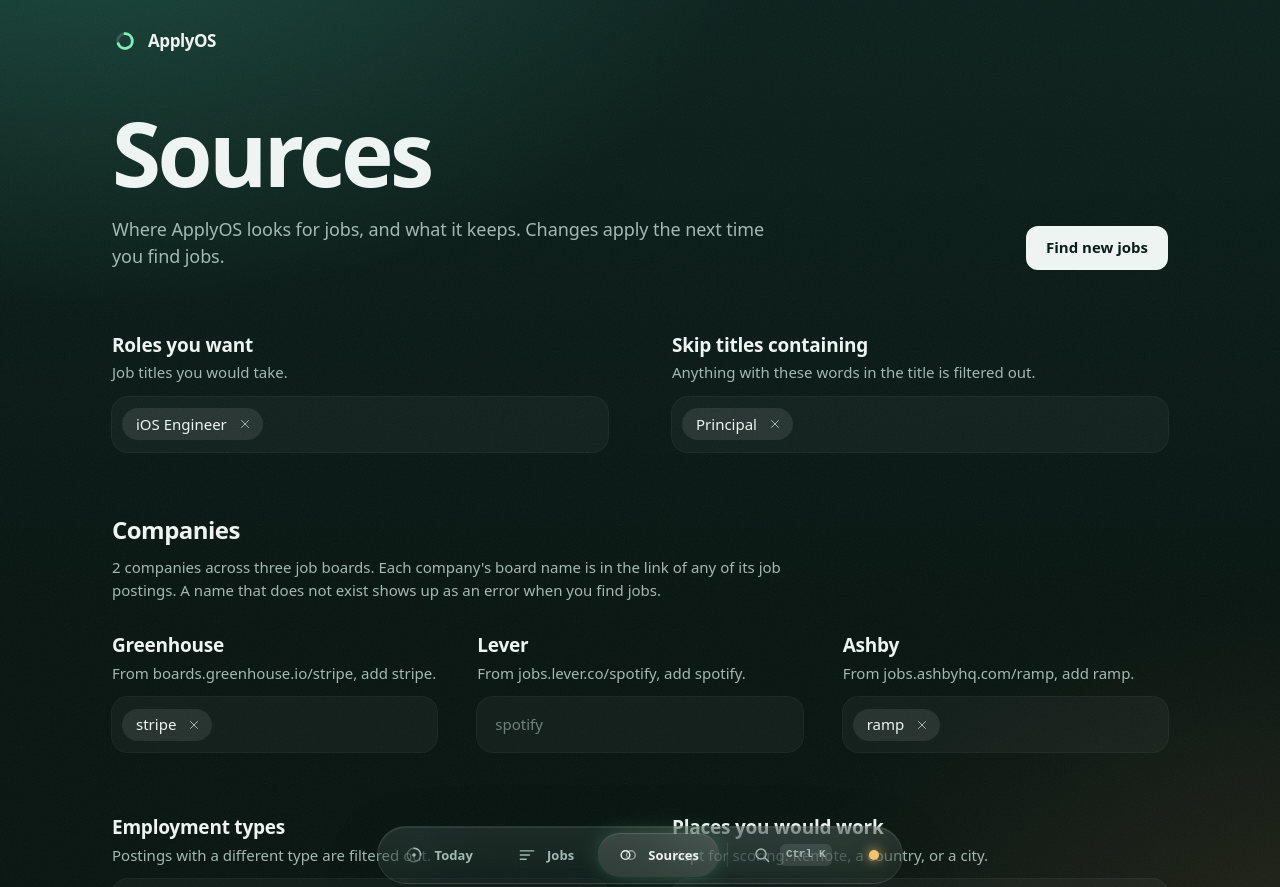
Sources page › rejects a company name that cannot be right, without marking the page changed
Expected: the text "stripe" is shown, [122,709,212,741]
Step 1. Type "not a slug" into the field labelled "Lever" → (640, 725), box [487,707,793,742]
Then press Enter
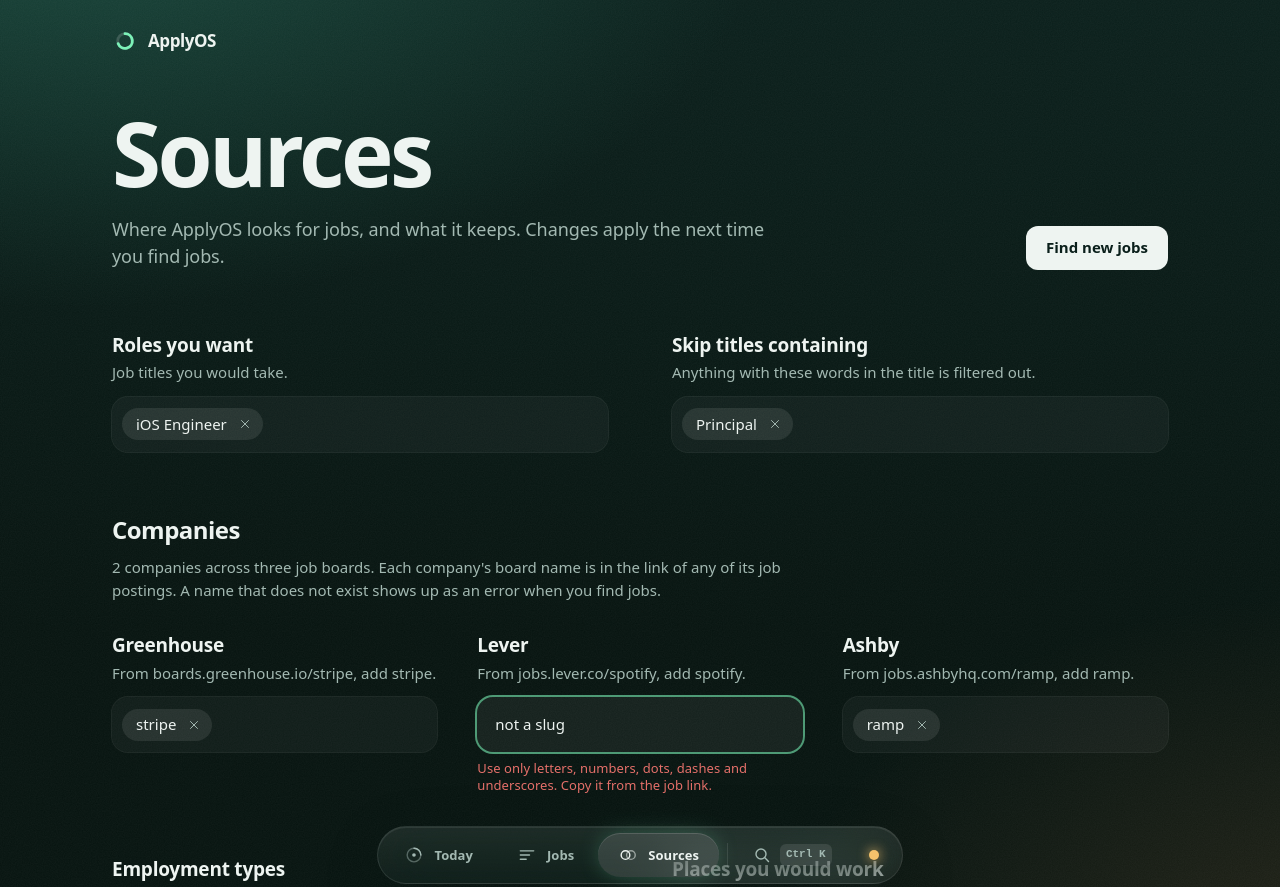
Expected: the message shows "Use only letters, numbers, dots, dashes and underscores", [477,759,747,794]
